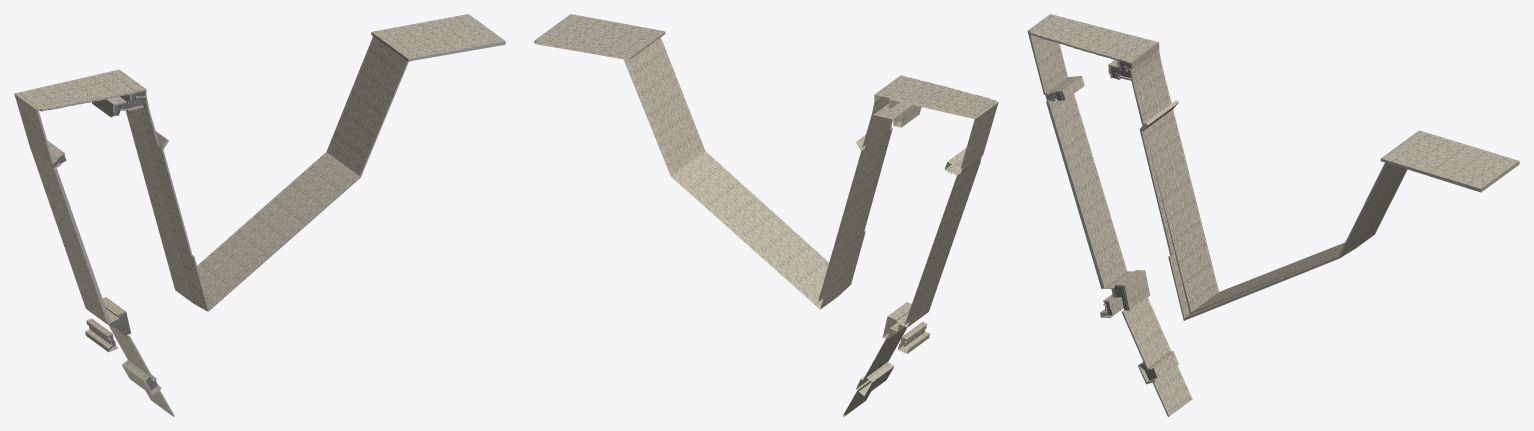
Rendered from Hirvepargi_myyr.obj.
3 views of the same model, side by side, from view 1: azimuth 30°, elevation 25°; view 2: azimuth 150°, elevation 25°; view 3: azimuth 330°, elevation 25° (orthographic). The views are drawn at different scales.
Parts seen in each view (by area): view 1: Hirvepargi_myyr; view 2: Hirvepargi_myyr; view 3: Hirvepargi_myyr.
Boxes of the visible parts, left/top/right/bottom form: Hirvepargi_myyr: left=14, top=14, right=505, bottom=416; Hirvepargi_myyr: left=534, top=14, right=998, bottom=416; Hirvepargi_myyr: left=1027, top=14, right=1519, bottom=416.
Size of the model in its own units: 249 by 178 by 35.39.
